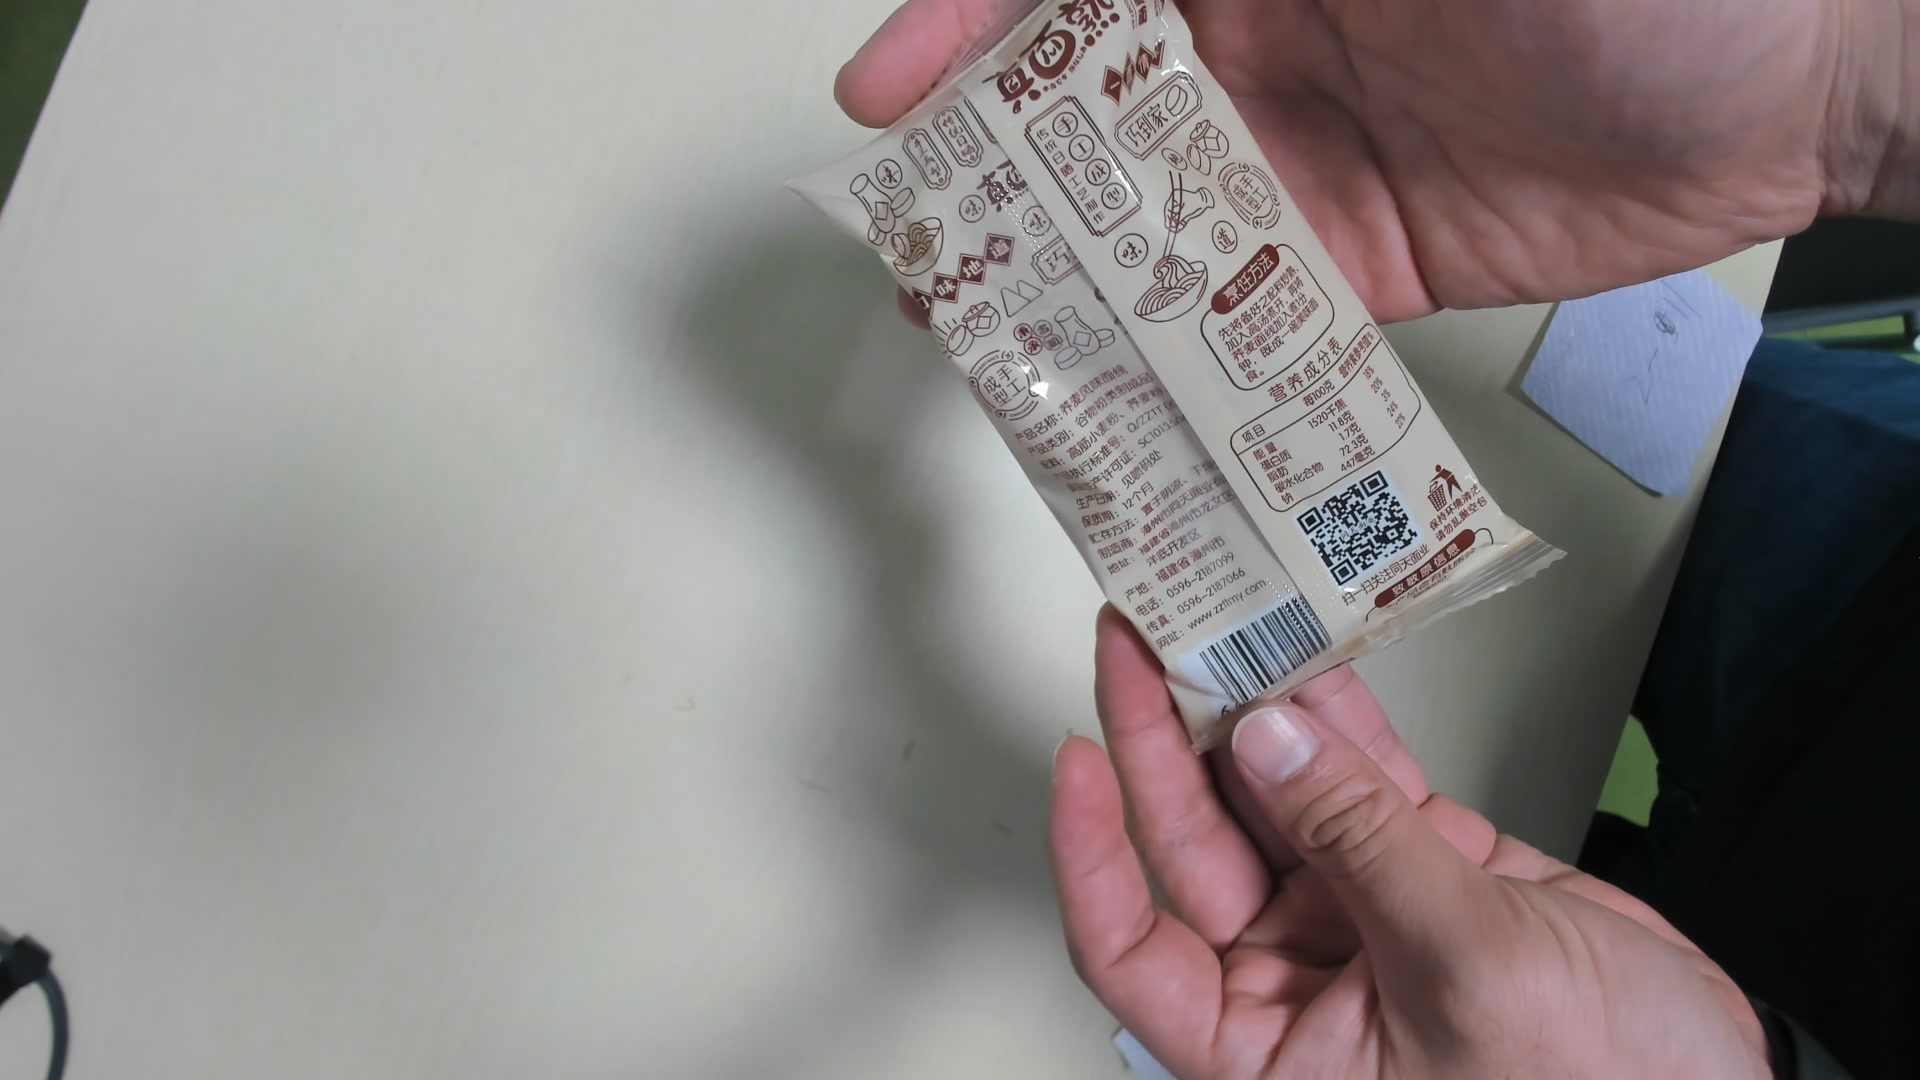BeeHoonVermicelli_0-99g_NonHalal_NonHealthy: (789, 1, 1549, 736)
